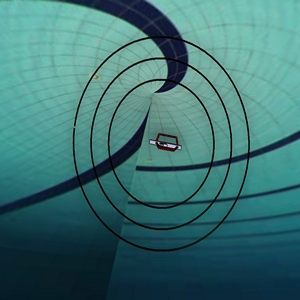circle: (56, 21, 259, 271)
submarine: (142, 119, 189, 167)
